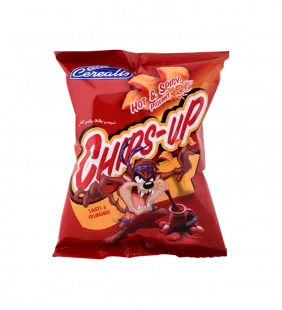CHIPS'UP: (44, 44, 236, 268)
